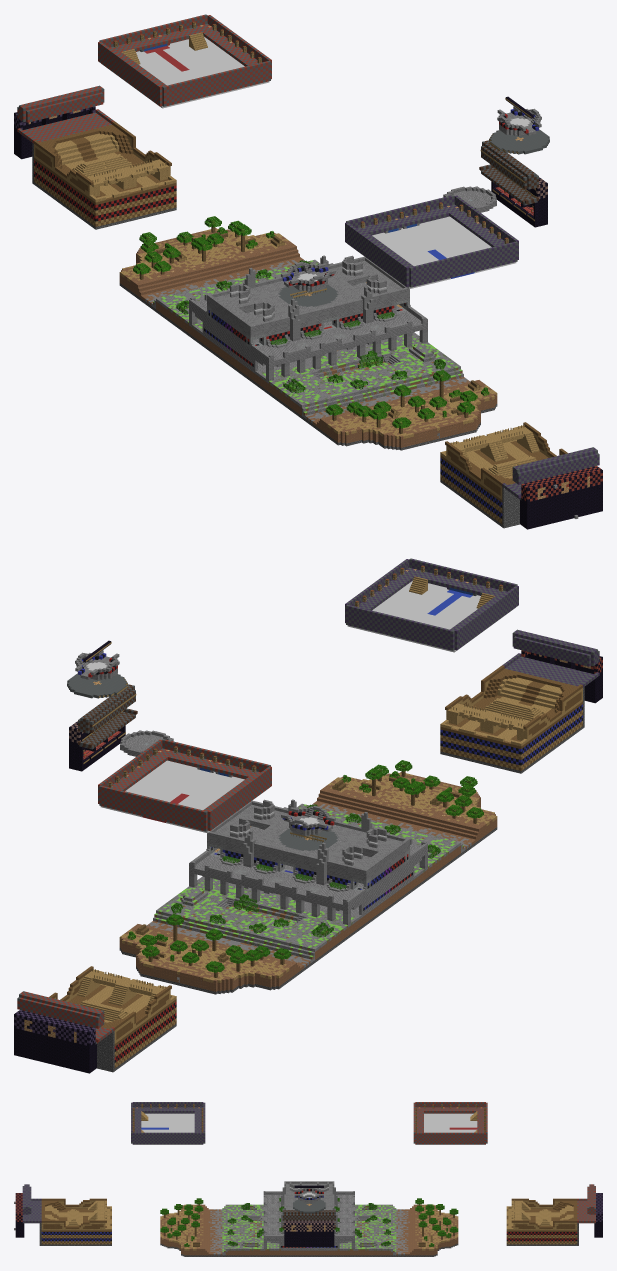
Rendered from minecraft.obj.
The picture shows the model from 3 angles, top to bottom: view 1: azimuth 30°, elevation 25°; view 2: azimuth 150°, elevation 25°; view 3: azimuth 270°, elevation 25°; orthographic projection. The views are drawn at different scales.
Size of the model in its own units: 1210 by 750 by 3420.
